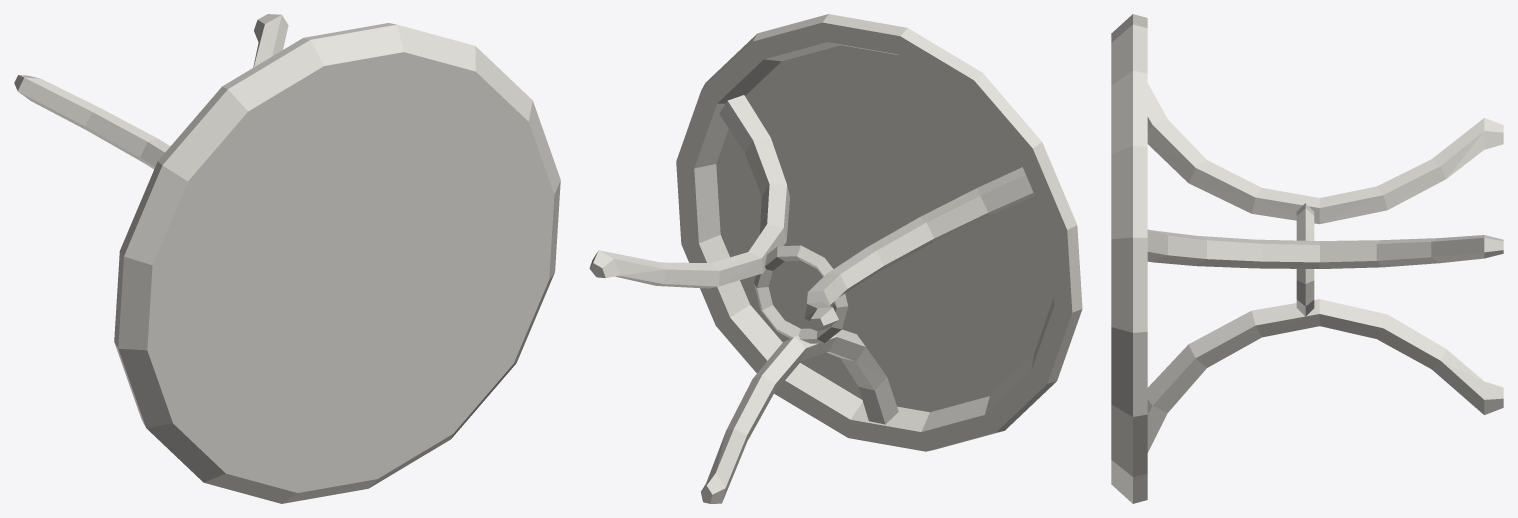
Rendered from table.obj.
3 renders of one model, left to right at view 1: azimuth 30°, elevation 25°; view 2: azimuth 150°, elevation 25°; view 3: azimuth 270°, elevation 25°, orthographic. The views are drawn at different scales.
Visible parts, largest first — view 1: Object.5, Object.3, Object.1; view 2: Object.5, Object.1, Object.4, Object.3, Object.2; view 3: Object.5, Object.4, Object.3, Object.1, Object.2.
Boxes of the visible parts, x1,y1,x2,y2 form: Object.5: [114, 23, 560, 503]; Object.3: [14, 75, 170, 169]; Object.1: [253, 14, 288, 67]; Object.5: [676, 14, 1082, 451]; Object.1: [589, 95, 789, 288]; Object.4: [701, 329, 898, 503]; Object.3: [804, 167, 1034, 330]; Object.2: [754, 245, 848, 343]; Object.5: [1111, 14, 1147, 503]; Object.4: [1147, 299, 1503, 452]; Object.3: [1147, 83, 1503, 224]; Object.1: [1147, 229, 1503, 268]; Object.2: [1296, 203, 1314, 316].
Size of the model in its own units: 52.43 by 52.43 by 42.18.
1 material, 1 textured.
